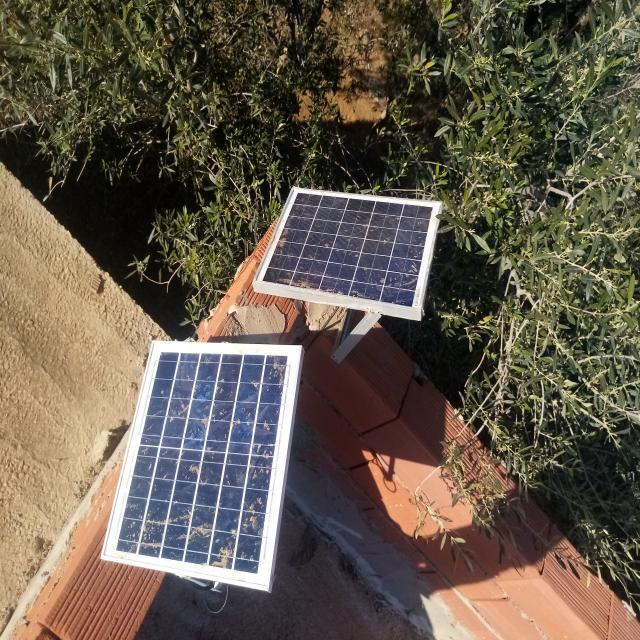faulty: (102, 343, 302, 591), (255, 188, 440, 312)
